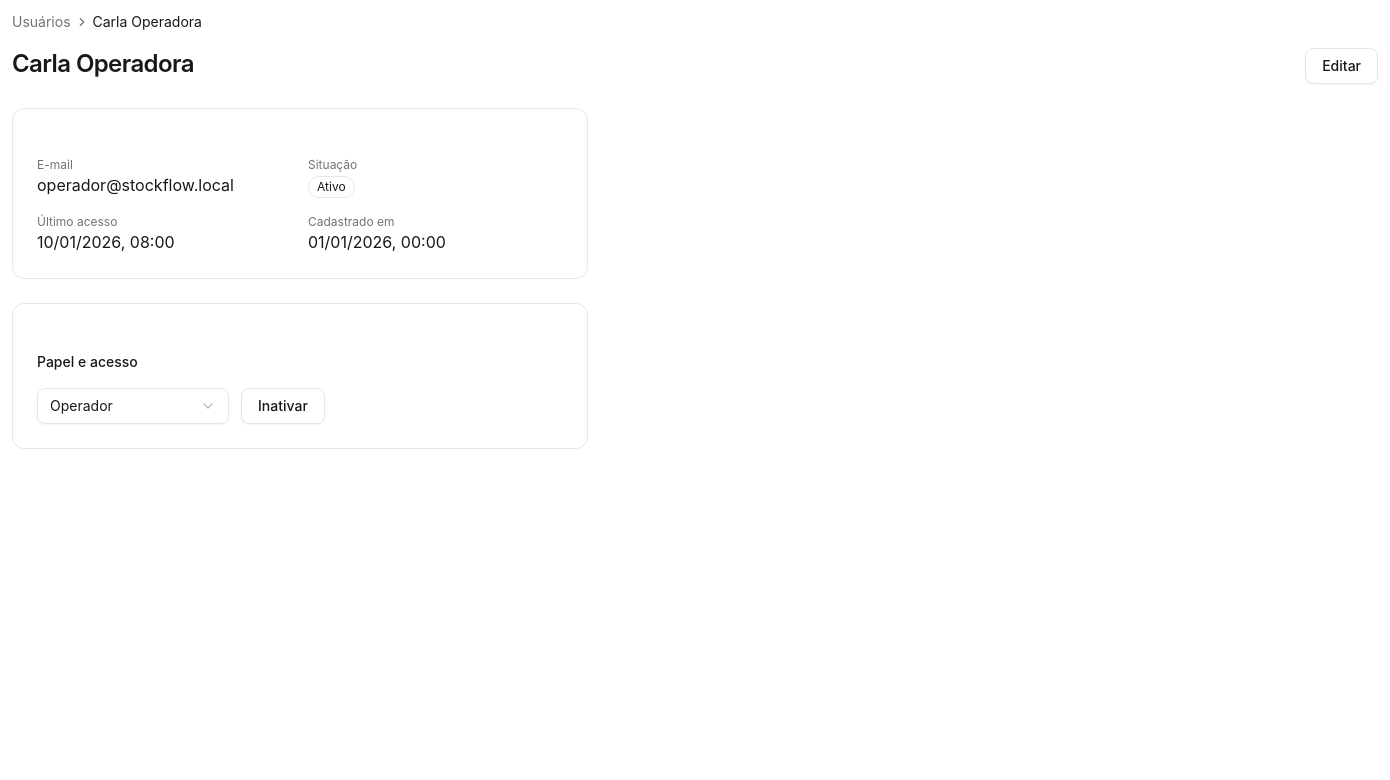
Test: UserDetailPage › e-mail já cadastrado (409) ao editar mostra mensagem compreensível
Check: the text "operador@stockflow.local" is shown, box [37,175,234,195]
Click the button "Editar" at (1342, 66), box [1305,48,1378,84]
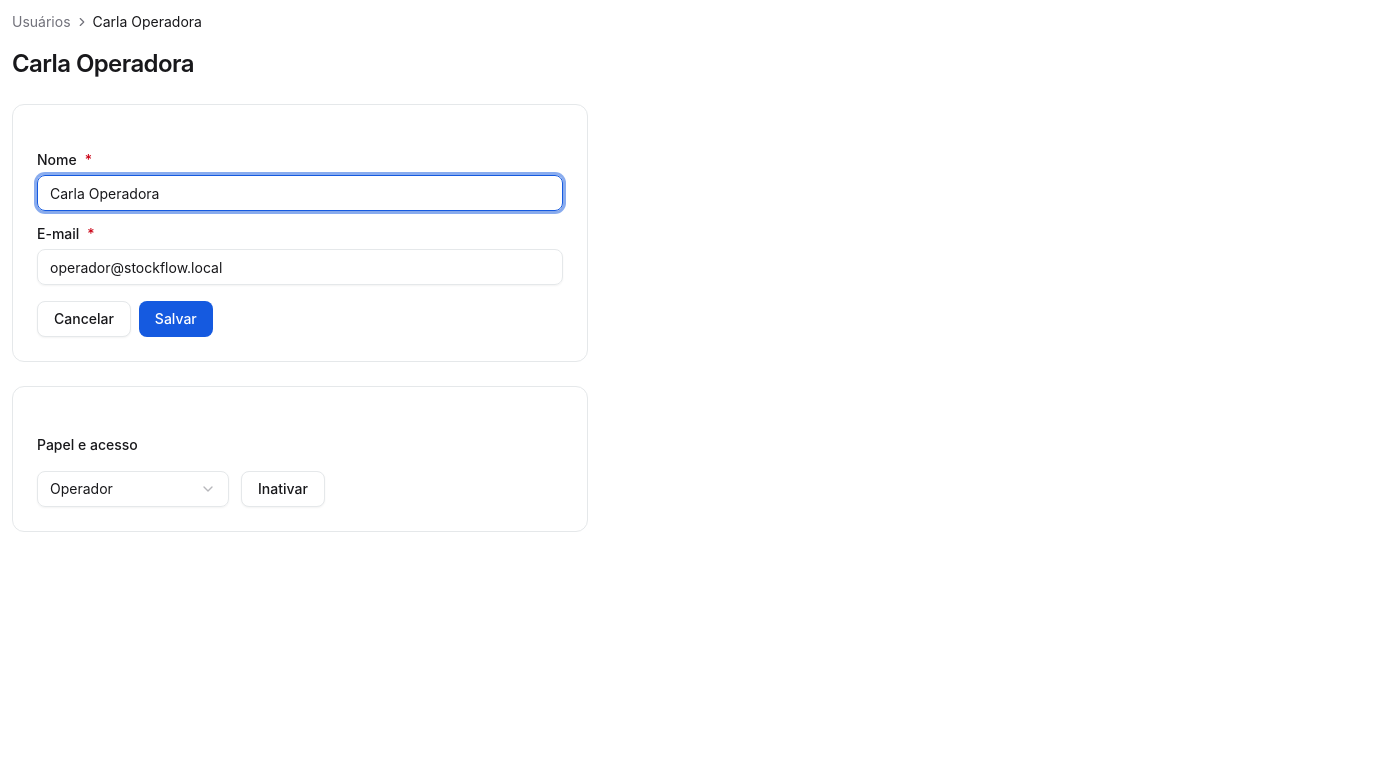
Click the button "Salvar" at (176, 319), box [139,301,213,337]
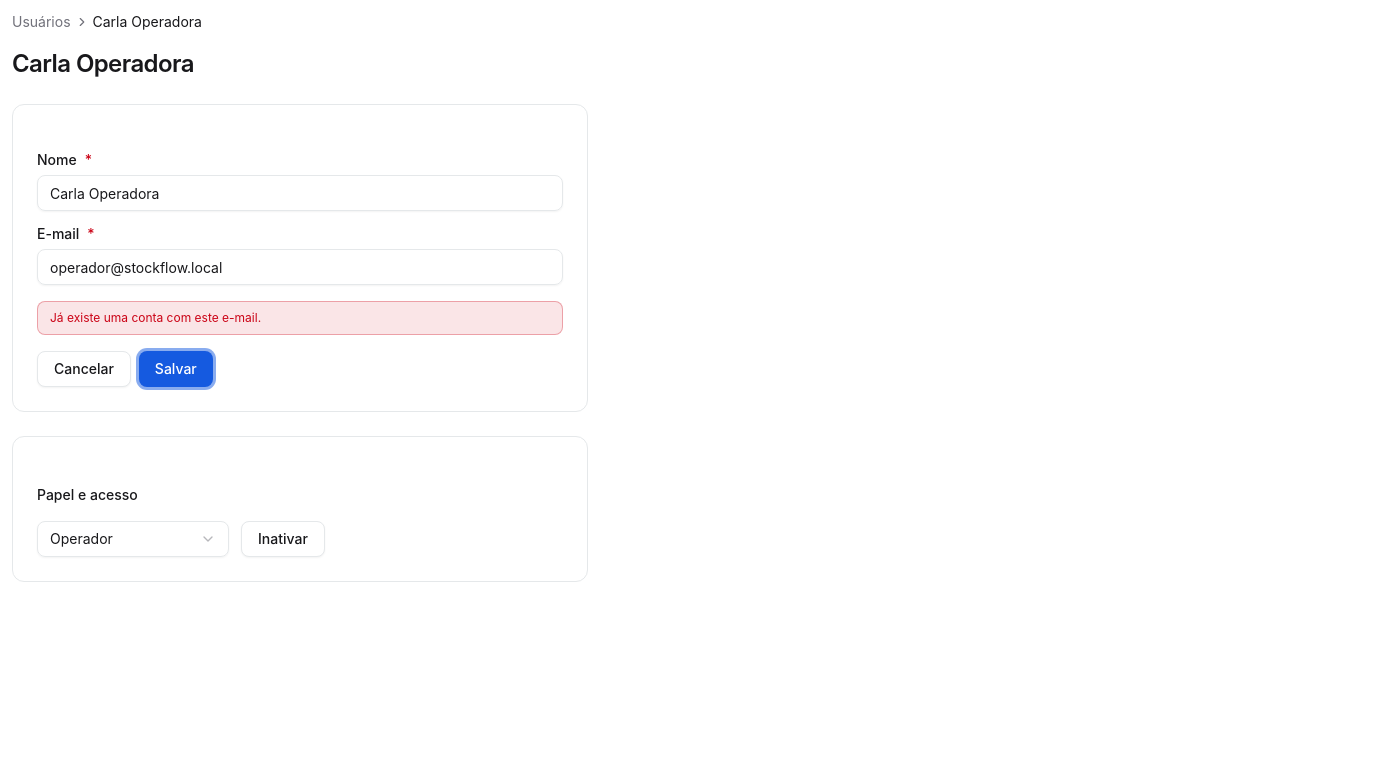
Check: the text "Já existe uma conta com este e-mail." is shown, box [37,301,563,335]
